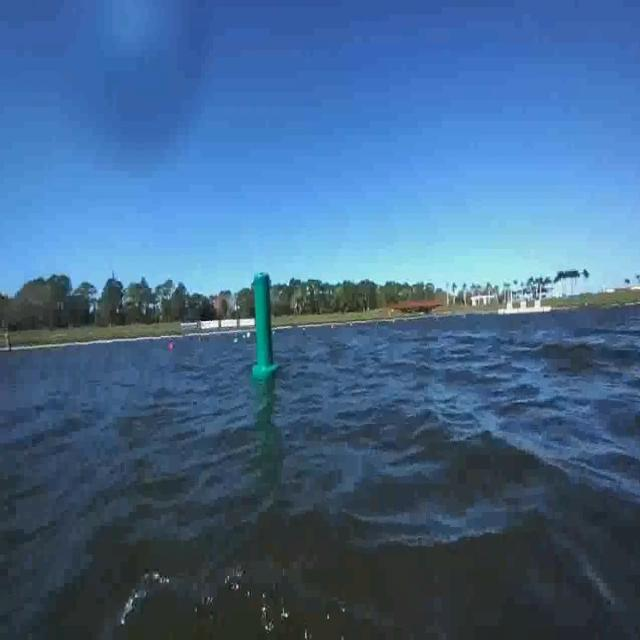green-column-buoy: (250, 272, 278, 381)
